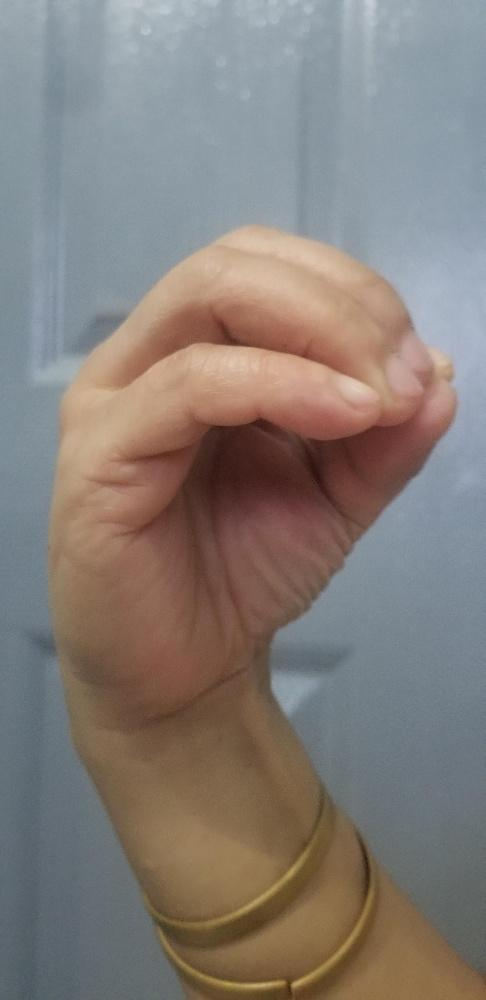o: (40, 220, 458, 680)
